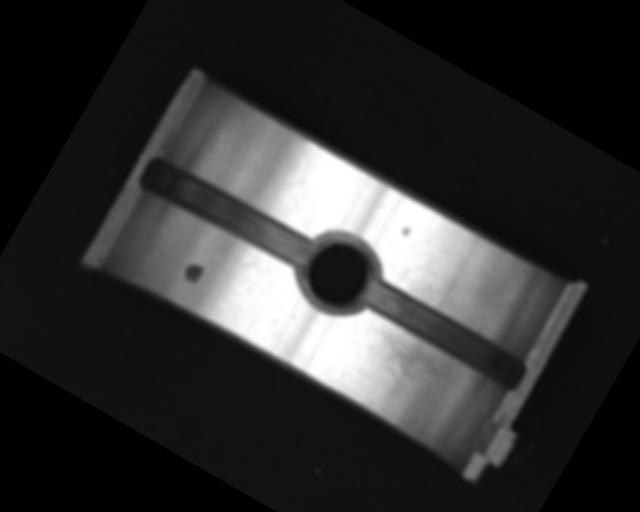blot: (179, 258, 206, 287)
bruise: (400, 224, 413, 238)
gap: (137, 151, 321, 279), (356, 273, 531, 394)
hole: (289, 222, 391, 327)
nick: (269, 163, 315, 225)
scratch: (351, 317, 467, 406)
